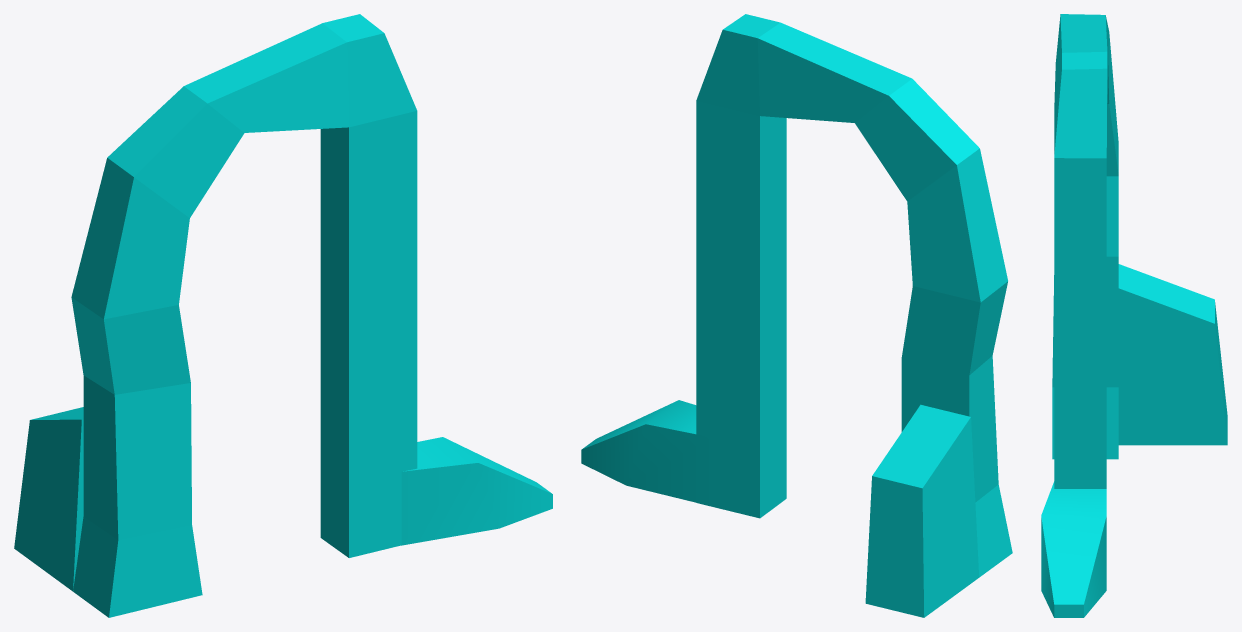
The model's file is SM_Bld_Ruin_01_ALT_Collision.fbx.
The picture shows the model from 3 angles, left to right: view 1: azimuth 30°, elevation 25°; view 2: azimuth 150°, elevation 25°; view 3: azimuth 270°, elevation 25°; orthographic projection. The views are drawn at different scales.
Visible parts, largest first — view 1: SM_Bld_Ruin_01_ALT_Collision; view 2: SM_Bld_Ruin_01_ALT_Collision; view 3: SM_Bld_Ruin_01_ALT_Collision.
Part boxes in pixels (box(x1,y1,x2,y2)): SM_Bld_Ruin_01_ALT_Collision: box(14, 14, 552, 617); SM_Bld_Ruin_01_ALT_Collision: box(581, 14, 1012, 617); SM_Bld_Ruin_01_ALT_Collision: box(1041, 14, 1227, 617).
Bounding box in the file's own units: 425 × 467 × 166.
